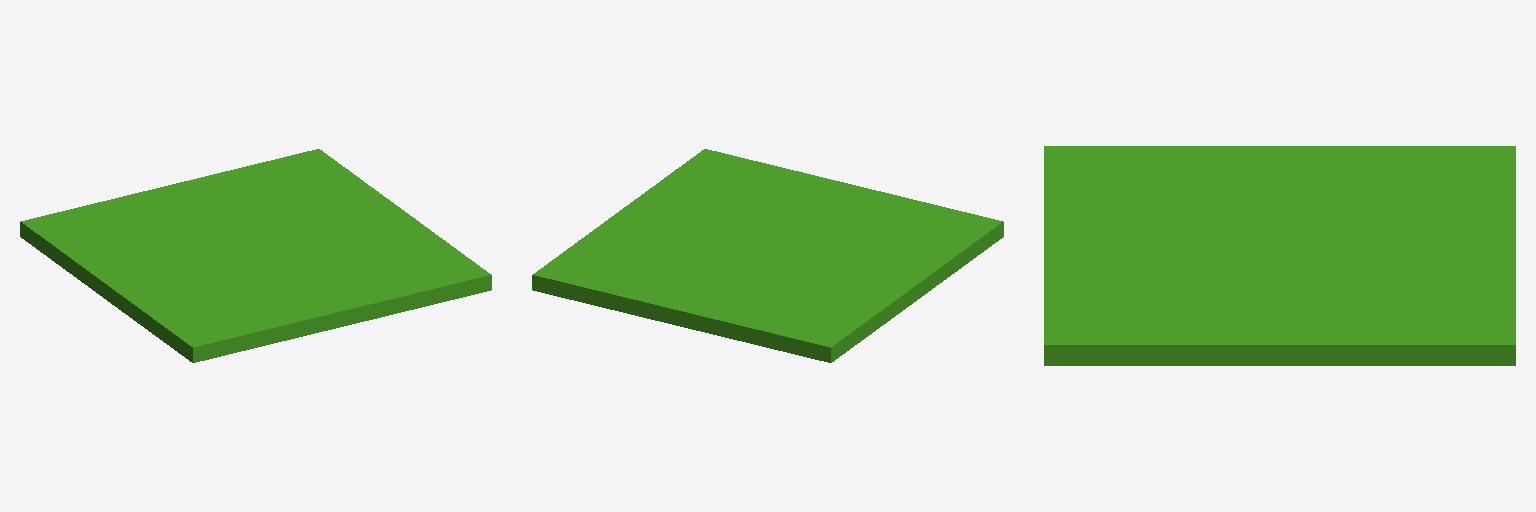
robot.urdf — Floor:
<?xml version="1.0"?>
<robot name="Floor">
	<material name="ground">
    <color rgba="0.35 0.7 0.2 1"/>
  </material>
  
  <link name="base_link">
    <visual>
      <geometry>
        <box size="20 20 1"/>
      </geometry>
  	<origin rpy="0 0 0" xyz="0 0 0"/>
  	<material name="ground"/>
    </visual>
    <collision>
      <geometry>
        <box size="20 20 1.1"/>
      </geometry>
    <origin rpy="0 0 0" xyz="0 0 0"/>
    </collision>
  </link>
</robot>

--- Render facts (derived) ---
3 views of the same robot in one strip: view 1: azimuth 30°, elevation 25°; view 2: azimuth 150°, elevation 25°; view 3: azimuth 270°, elevation 25° (orthographic).
Model Floor with 1 links and 0 joints (none), rooted at base_link, posed every joint at zero.
Visible links, largest first — view 1: base_link; view 2: base_link; view 3: base_link.
Boxes of the visible links, x1=… form: base_link: x1=20, y1=149, x2=491, y2=362; base_link: x1=532, y1=149, x2=1003, y2=362; base_link: x1=1044, y1=146, x2=1515, y2=365.
Size in the robot's own frame: 20 by 20 by 1 metres.
Geometry: primitives only (box / cylinder / sphere), no mesh files.